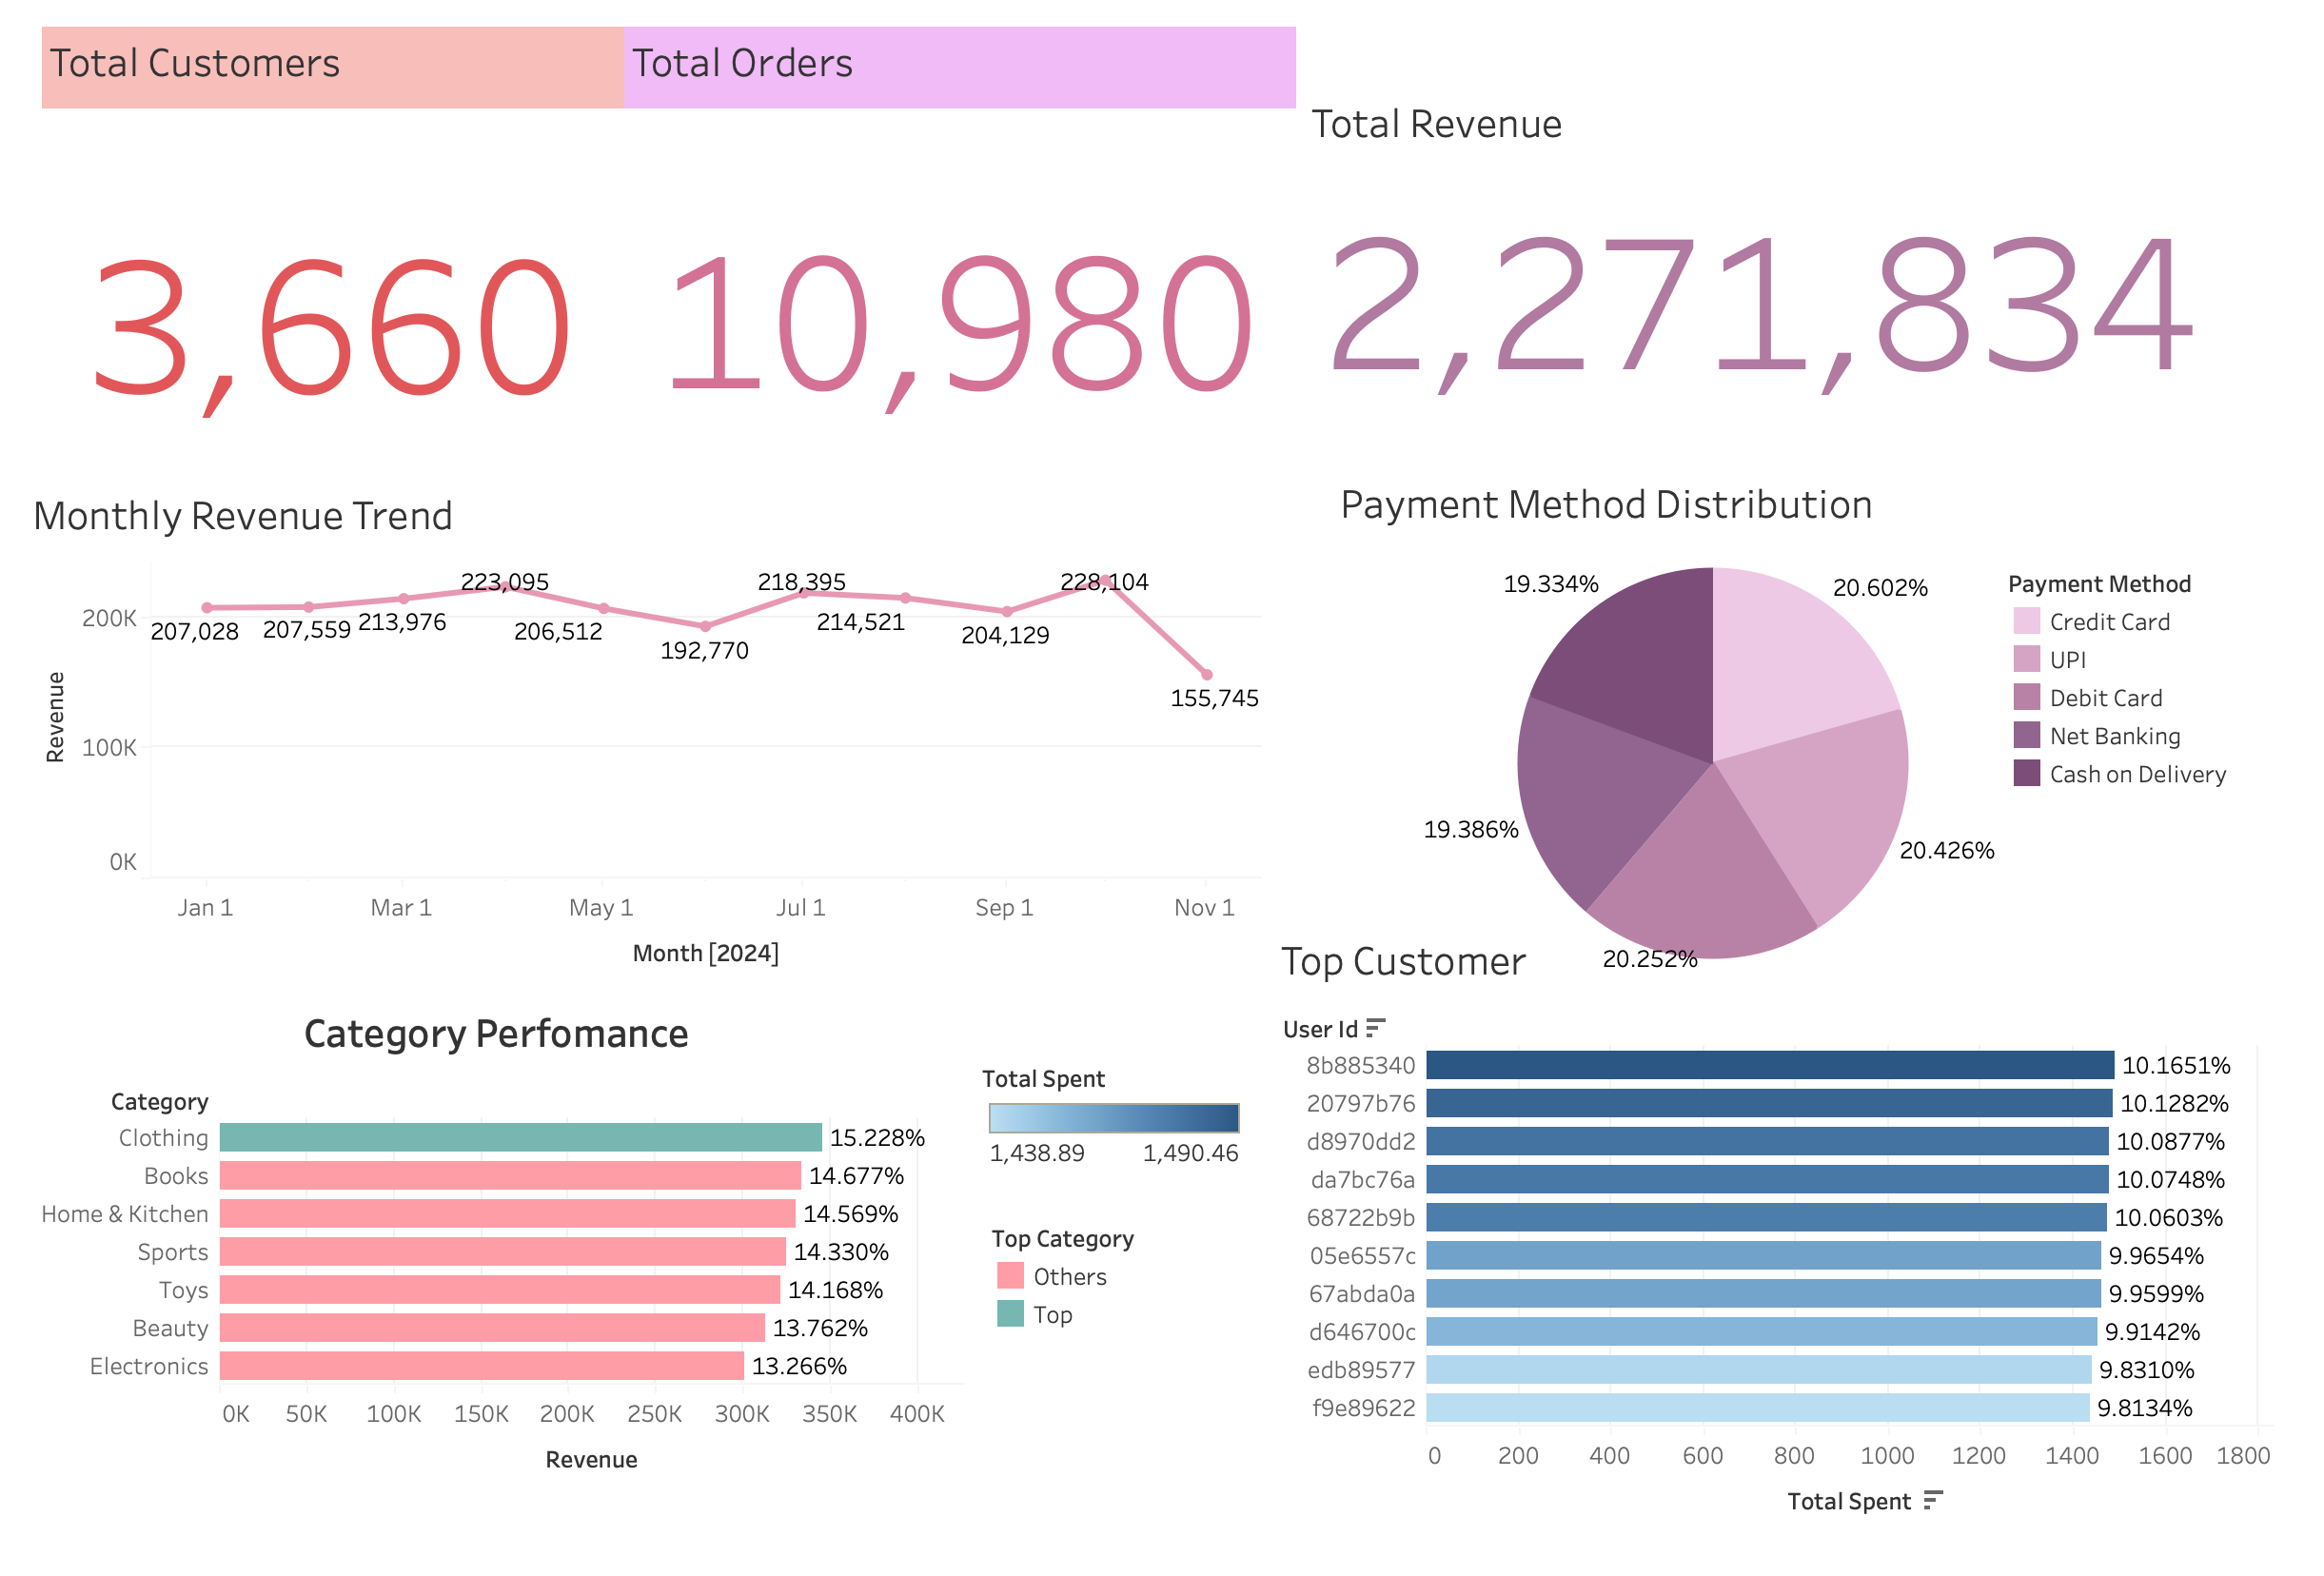

What the dashboard file says about the page in this screenshot:
{"tool":"tableau","page":{"name":"Dashboard 1","canvas":[1200,800],"ordinal":0},"visuals":[{"type":"worksheet","title":"Total Customers","mark":"Text","box":[18,5,306,264]},{"type":"worksheet","title":"Total Orders","mark":"Text","box":[324,5,353,261]},{"type":"worksheet","title":"Total Revenue","mark":"Automatic","box":[681,37,501,239]},{"type":"worksheet","title":"Payment Method Distribution","mark":"Pie","box":[696,237,400,267]},{"type":"worksheet","title":"Monthly Revenue Trend","mark":"Line","rows":["revenue"],"cols":["month"],"box":[9,243,650,264]},{"type":"legend","title":"Payment Method Distribution","param":"[federated.128zmn21qgai9f1avfn5k0d68im4].[none:payment_method:nk]","box":[1051,289,140,118]},{"type":"worksheet","title":"Top Customer","mark":"Automatic","rows":["user_id"],"cols":["total_spent"],"box":[665,477,526,327]},{"type":"worksheet","title":"Category Performance","mark":"Automatic","rows":["category"],"cols":["revenue"],"box":[11,515,492,270]},{"type":"legend","title":"Top Customer","param":"[federated.1gdi0510vbhklr1a2krjk1pa64a1].[sum:total_spent:qk]","box":[512,549,140,76]},{"type":"legend","title":"Category Performance","param":"[federated.158syu51iuqh1t12djeqf03ufwl0].[usr:Calculation_2270236485423697920:nk","box":[517,633,140,60]}]}

Visuals, with their boxes in screenshot pixels (x1, y1, x2, y2), scaled from the page's 1200x800 canvas onto the 2324x1576 screenshot:
"Total Customers" worksheet (Text marks): [x1=35, y1=10, x2=627, y2=530]
"Total Orders" worksheet (Text marks): [x1=627, y1=10, x2=1311, y2=524]
"Total Revenue" worksheet: [x1=1319, y1=73, x2=2289, y2=543]
"Payment Method Distribution" worksheet (Pie marks): [x1=1348, y1=467, x2=2122, y2=993]
"Monthly Revenue Trend" worksheet (Line marks): [x1=17, y1=479, x2=1276, y2=998]
"Payment Method Distribution" legend: [x1=2036, y1=569, x2=2307, y2=801]
"Top Customer" worksheet: [x1=1288, y1=939, x2=2307, y2=1575]
"Category Performance" worksheet: [x1=21, y1=1015, x2=975, y2=1546]
"Top Customer" legend: [x1=992, y1=1081, x2=1263, y2=1231]
"Category Performance" legend: [x1=1001, y1=1247, x2=1272, y2=1366]
